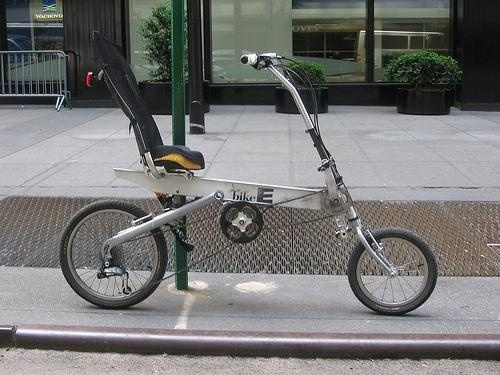bicycle: (58, 30, 440, 319)
pottedplant: (380, 50, 466, 117), (140, 5, 190, 115), (274, 61, 334, 116)
